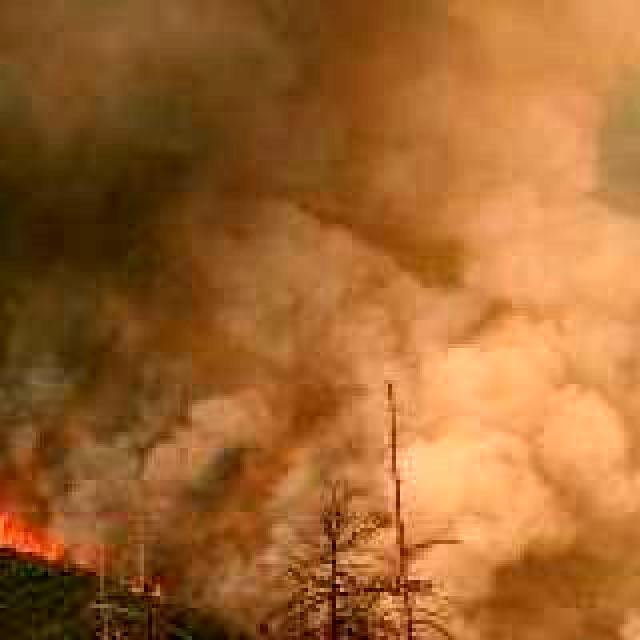smoke: (0, 0, 114, 454)
